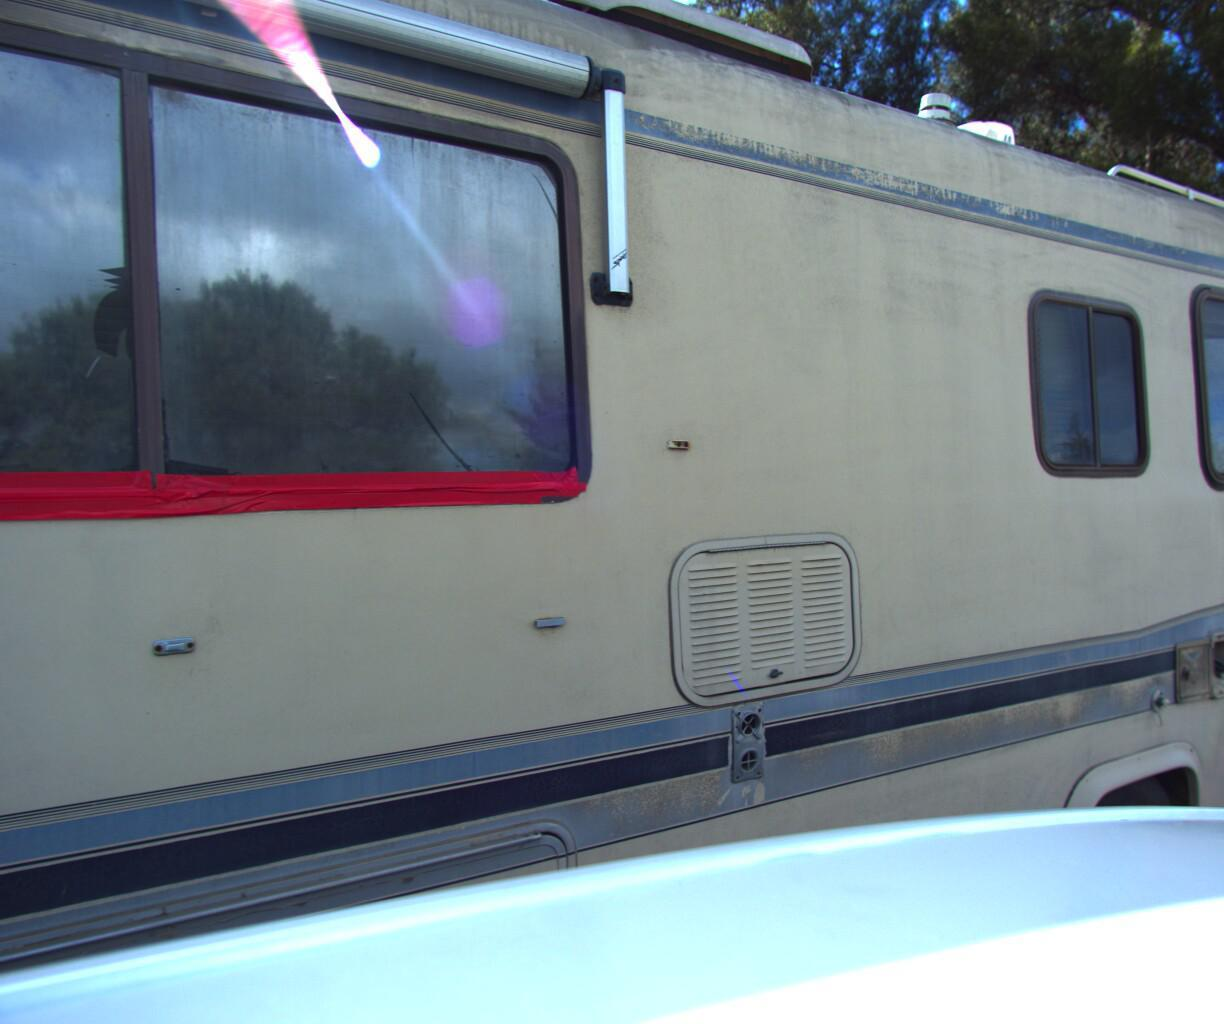car: (1208, 518, 1224, 799)
